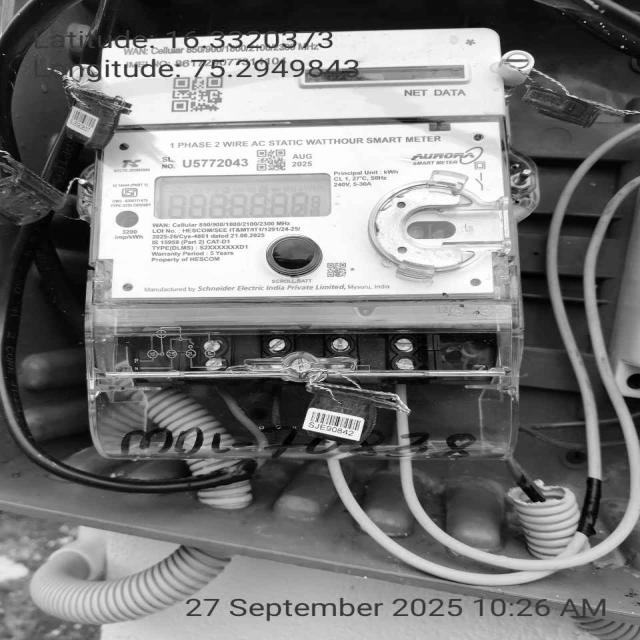meter: (98, 30, 520, 299)
